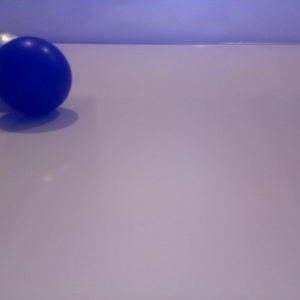alive_ball: (1, 31, 39, 116)
dead_ball: (1, 37, 72, 114)
